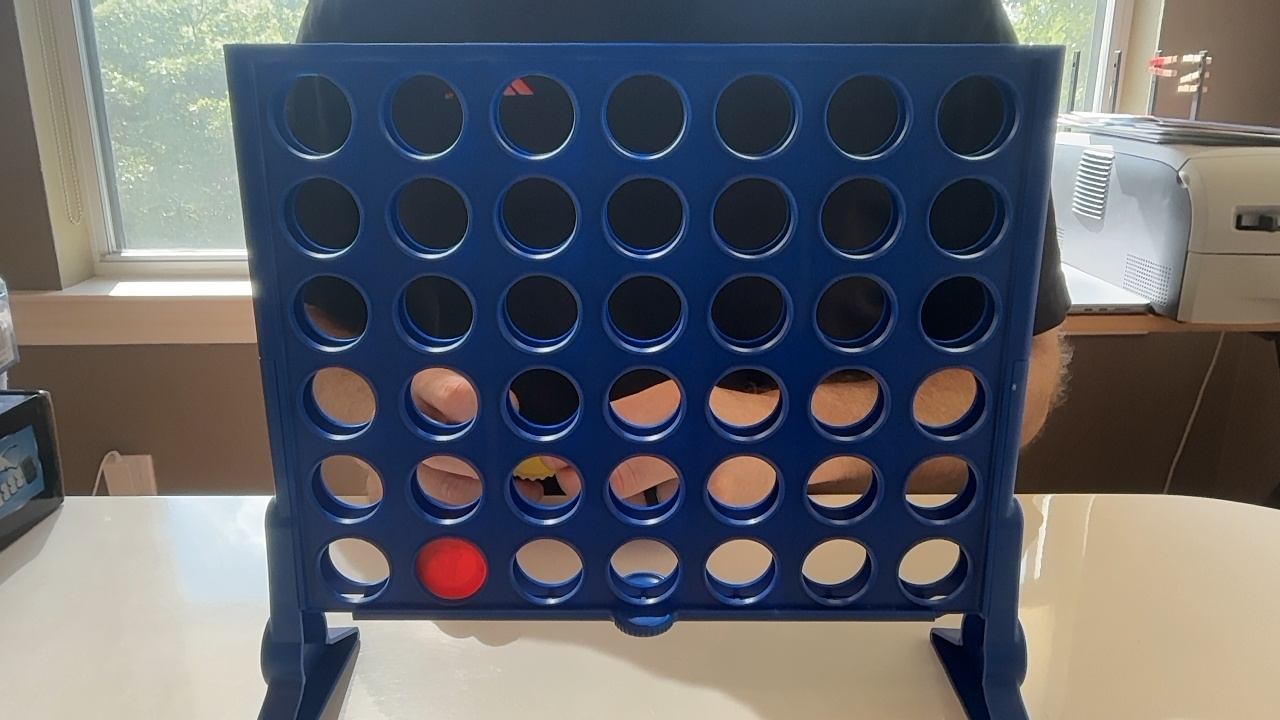red piece: (416, 537, 487, 600)
